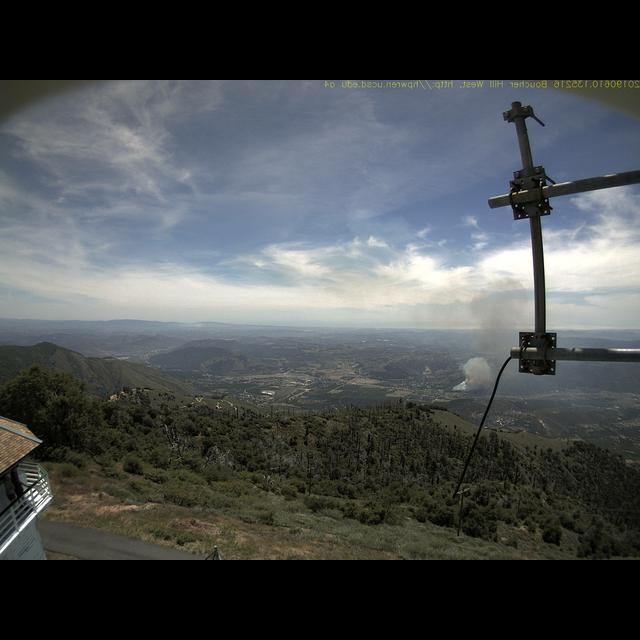Smoke: (447, 271, 532, 397)
